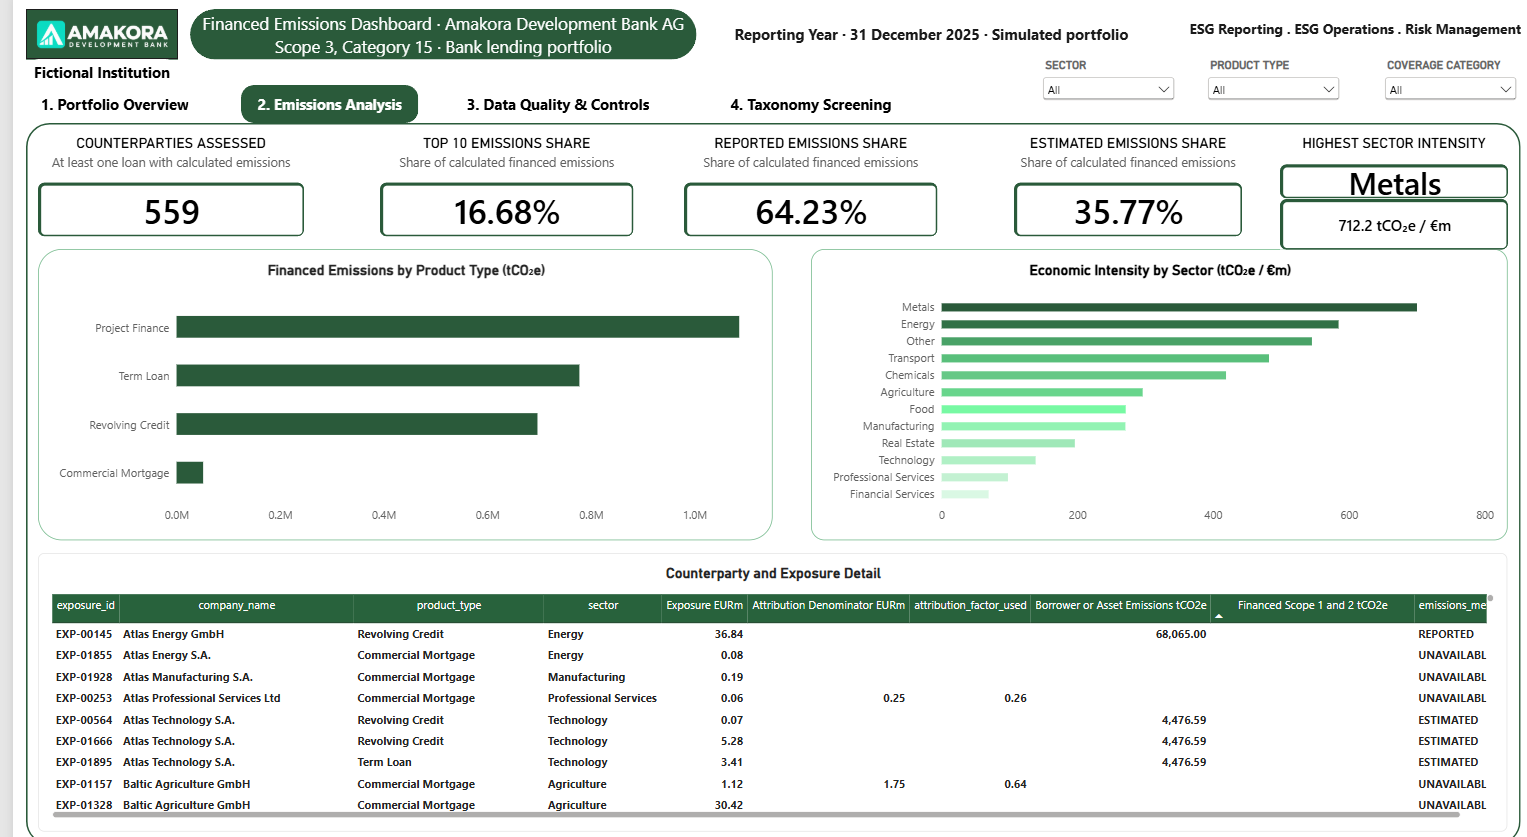

The page's visual inventory and layout, read from the dashboard file:
{"tool":"powerbi","page":{"name":"Emission analysis","canvas":[1920,1080],"ordinal":1},"visuals":[{"type":"shape","box":[0,0,1920,1072],"z":0},{"type":"shape","box":[224,16,640,64],"z":1000},{"type":"shape","box":[864,32,592,32],"z":2000},{"type":"shape","box":[16,112,224,48],"z":3000},{"type":"shape","box":[16,160,1888,912],"z":4000},{"type":"cardVisual","title":"COUNTERPARTIES ASSESSED","fields":{"Data":["FCT_Portfolio_Calculated.Counterparties Assessed"]},"box":[32,176,336,128],"z":5000},{"type":"cardVisual","title":"TOP 10 EMISSIONS SHARE","fields":{"Data":["FCT_Portfolio_Calculated.Top 10 Emissions Share %"]},"box":[464,176,320,128],"z":6000},{"type":"cardVisual","title":"REPORTED EMISSIONS SHARE","fields":{"Data":["FCT_Portfolio_Calculated.Reported Emissions Share %"]},"box":[848,176,320,128],"z":7000},{"type":"cardVisual","title":"ESTIMATED EMISSIONS SHARE","fields":{"Data":["FCT_Portfolio_Calculated.Estimated Emissions Share %"]},"box":[1264,176,288,128],"z":8000},{"type":"clusteredBarChart","title":"Financed Emissions by Product Type (tCO₂e)","fields":{"Category":["FCT_Portfolio_Calculated.product_type"],"Y":["FCT_Portfolio_Calculated.Financed Emissions ktCO2e"]},"box":[32,320,928,368],"z":9000},{"type":"shape","box":[288,112,224,48],"z":10000},{"type":"slicer","fields":{"Values":["STG_Counterparties.sector_reported"]},"box":[1296,80,176,64],"z":11000},{"type":"slicer","fields":{"Values":["FCT_Portfolio_Calculated.product_type"]},"box":[1504,80,176,64],"z":12000},{"type":"slicer","fields":{"Values":["FCT_Portfolio_Calculated.Coverage Category"]},"box":[1728,80,176,64],"z":13000},{"type":"clusteredBarChart","title":"Economic Intensity by Sector (tCO₂e / €m)","fields":{"Category":["STG_Counterparties.sector_reported"],"Y":["FCT_Portfolio_Calculated.Economic Intensity tCO2e per EURm"]},"box":[1008,320,880,368],"z":14000},{"type":"shape","box":[544,112,288,48],"z":15000},{"type":"cardVisual","title":"HIGHEST SECTOR INTENSITY","fields":{"Data":["FCT_Portfolio_Calculated.Highest Intensity Sector"]},"box":[1600,176,288,80],"z":16000},{"type":"cardVisual","title":"Highest-Intensity Sector","fields":{"Data":["FCT_Portfolio_Calculated.Highest Sector Intensity"]},"box":[1600,256,288,64],"z":17000},{"type":"tableEx","title":"Counterparty and Exposure Detail","fields":{"Values":["FCT_Portfolio_Calculated.exposure_id","STG_Counterparties.company_name","FCT_Portfolio_Calculated.product_type","STG_Sector_Factors.sector","FCT_Portfolio_Calculated.Exposure EURm","FCT_Portfolio_Calculated.Attribution Denominator EURm","FCT_Portfolio_Calculated.attribution_factor_used","FCT_Portfolio_Calculated.Borrower or Asset Emissions tCO2e","FCT_Portfolio_Calculated.Financed Scope 1 and 2 tCO2e","FCT_Portfolio_Calculated.emissions_method"]},"box":[32,704,1856,352],"z":18000},{"type":"shape","box":[1472,16,448,48],"z":19000},{"type":"image","box":[16,16,192,64],"z":20000},{"type":"shape","box":[864,112,288,48],"z":21000},{"type":"shape","box":[16,80,192,32],"z":22000}]}

Visuals, with their boxes in screenshot pixels (x1, y1, x2, y2), scaled from the page's 1920x1080 canvas onto the 1527x837 screenshot:
shape: Rect(0, 0, 1526, 831)
shape: Rect(178, 12, 687, 62)
shape: Rect(687, 25, 1158, 50)
shape: Rect(13, 87, 191, 124)
shape: Rect(13, 124, 1514, 831)
"COUNTERPARTIES ASSESSED" cardVisual: Rect(25, 136, 293, 236)
"TOP 10 EMISSIONS SHARE" cardVisual: Rect(369, 136, 624, 236)
"REPORTED EMISSIONS SHARE" cardVisual: Rect(674, 136, 929, 236)
"ESTIMATED EMISSIONS SHARE" cardVisual: Rect(1005, 136, 1234, 236)
"Financed Emissions by Product Type (tCO₂e)" clusteredBarChart: Rect(25, 248, 764, 533)
shape: Rect(229, 87, 407, 124)
slicer - STG_Counterparties.sector_reported: Rect(1031, 62, 1171, 112)
slicer - FCT_Portfolio_Calculated.product_type: Rect(1196, 62, 1336, 112)
slicer - FCT_Portfolio_Calculated.Coverage Category: Rect(1374, 62, 1514, 112)
"Economic Intensity by Sector (tCO₂e / €m)" clusteredBarChart: Rect(802, 248, 1502, 533)
shape: Rect(433, 87, 662, 124)
"HIGHEST SECTOR INTENSITY" cardVisual: Rect(1272, 136, 1502, 198)
"Highest-Intensity Sector" cardVisual: Rect(1272, 198, 1502, 248)
"Counterparty and Exposure Detail" tableEx: Rect(25, 546, 1502, 818)
shape: Rect(1171, 12, 1526, 50)
image: Rect(13, 12, 165, 62)
shape: Rect(687, 87, 916, 124)
shape: Rect(13, 62, 165, 87)
